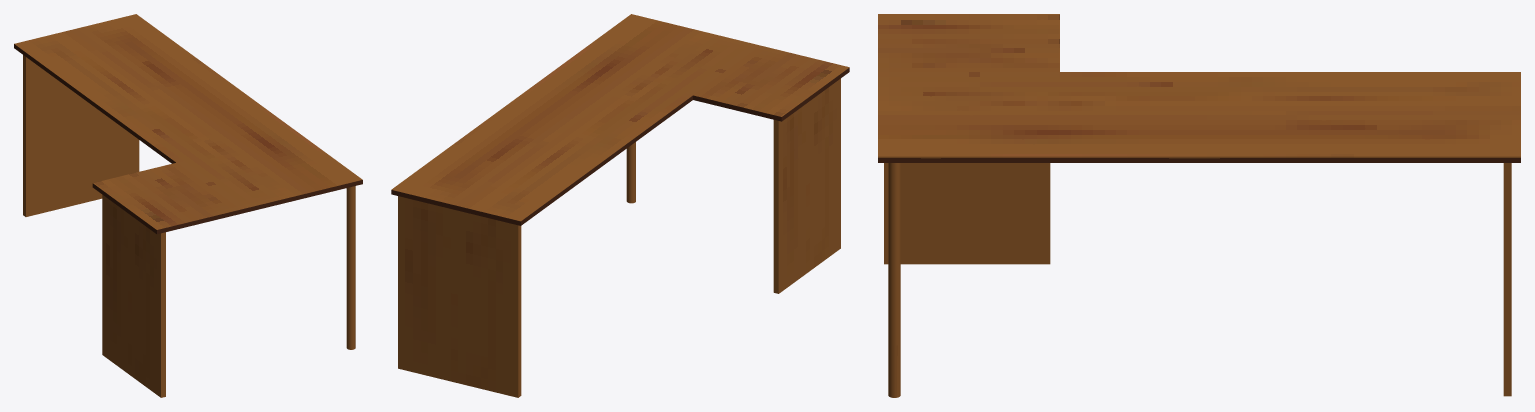
File: escritorio.glb
The picture shows the model from 3 angles, left to right: view 1: azimuth 30°, elevation 25°; view 2: azimuth 150°, elevation 25°; view 3: azimuth 270°, elevation 25°; orthographic projection. The views are drawn at different scales.
Visible parts, largest first — view 1: Cube.006, Cube.002, Cube.001, Cylinder; view 2: Cube.006, Cube.002, Cube.001, Cylinder; view 3: Cube.006, Cube.001, Cylinder, Cube.002.
Part boxes in pixels (x1,y1,x2,y2): Cube.006: (14, 14, 362, 234); Cube.002: (23, 55, 139, 216); Cube.001: (102, 195, 165, 397); Cylinder: (346, 186, 355, 349); Cube.006: (391, 14, 849, 225); Cube.002: (398, 196, 521, 397); Cube.001: (773, 78, 840, 293); Cylinder: (626, 142, 635, 203); Cube.006: (878, 14, 1520, 162); Cube.001: (884, 163, 1050, 264); Cylinder: (888, 163, 900, 397); Cube.002: (1503, 163, 1511, 396).
Size of what is drawn, in the model's own units: 1.16 by 0.9212 by 2.21.
Materials: 2 (2 with a texture image).
